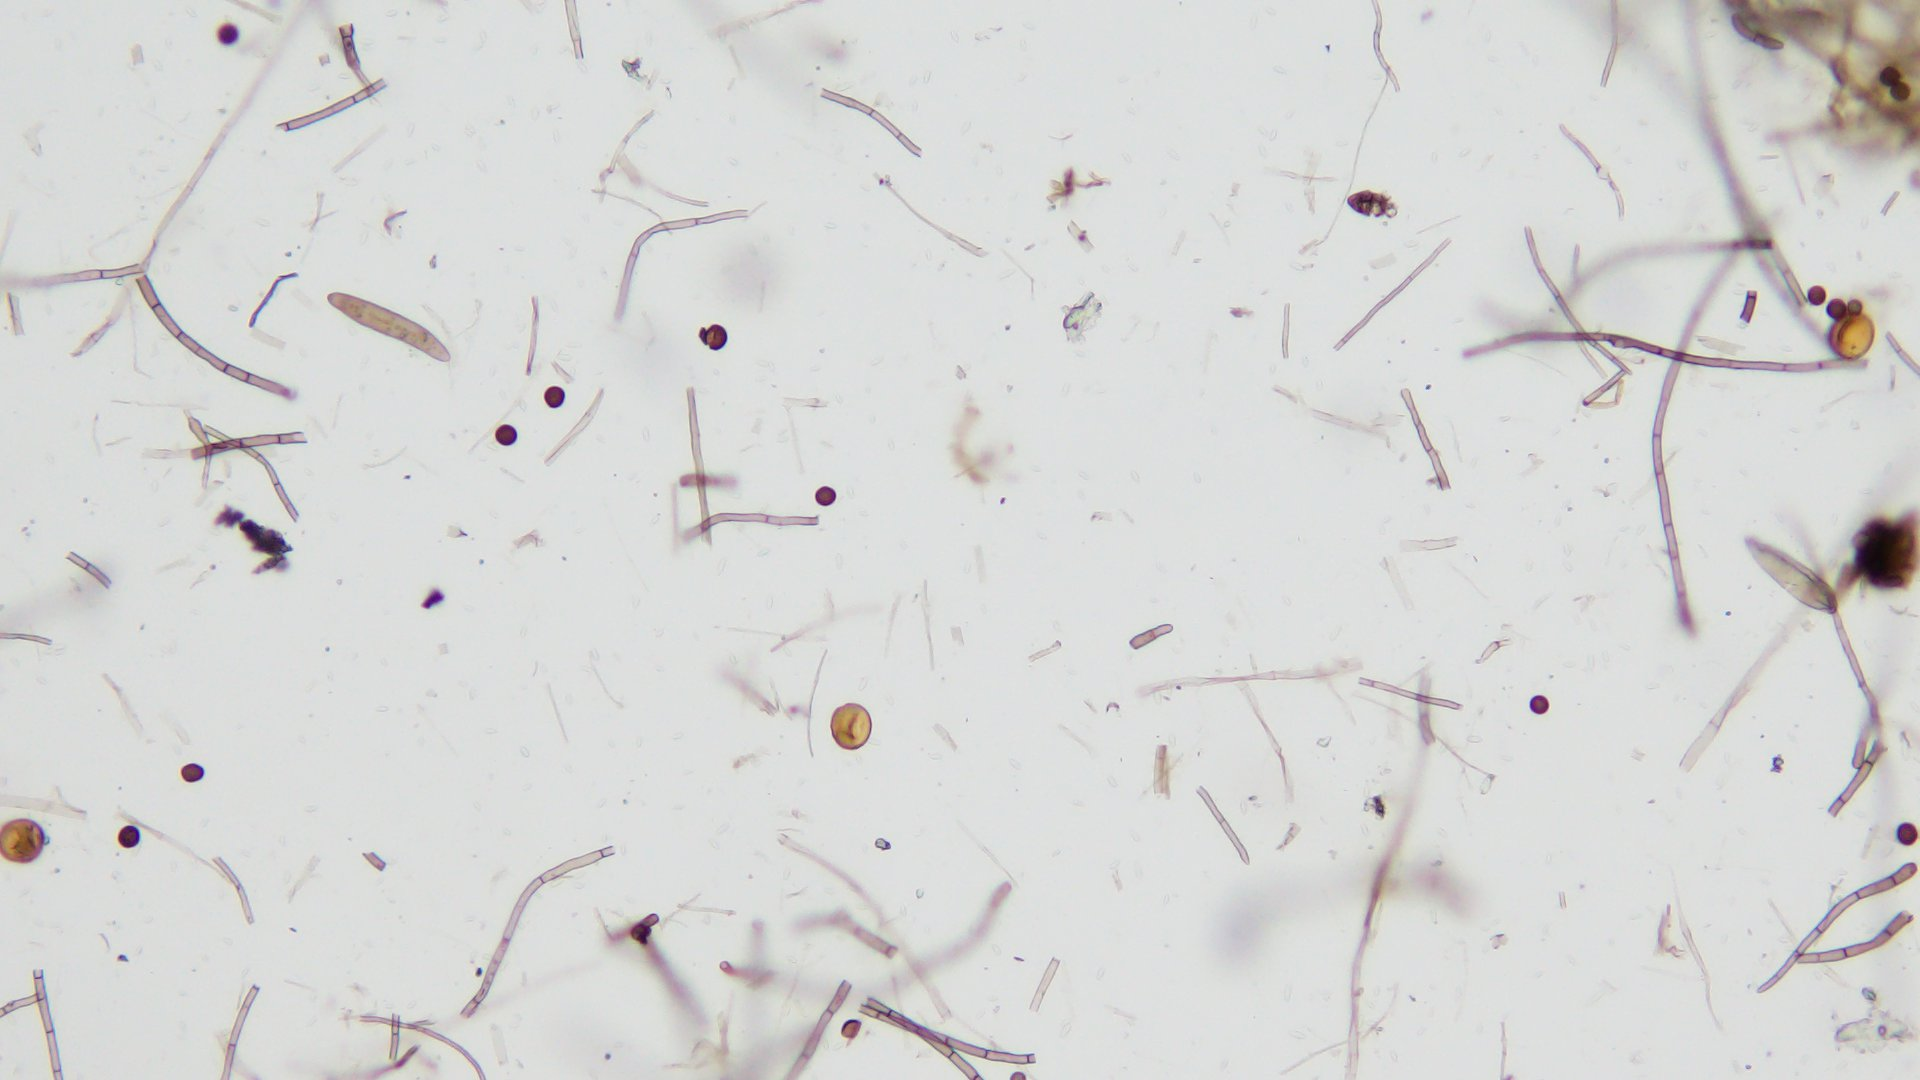dbb_spore: (327, 290, 452, 364), (1745, 535, 1834, 615), (1898, 823, 1919, 845), (1528, 695, 1549, 713)
shs_spore: (704, 322, 725, 355), (814, 483, 841, 506), (115, 825, 141, 849), (181, 761, 204, 785), (493, 425, 520, 446), (545, 385, 567, 407)
xb_spore: (829, 702, 873, 752), (1829, 311, 1873, 357), (1, 819, 45, 862)
